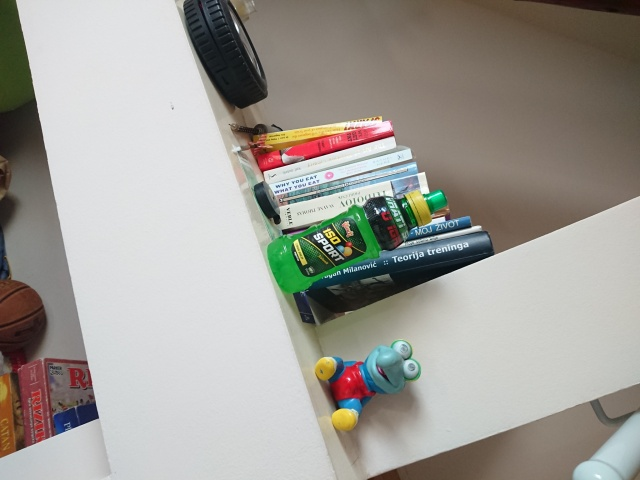Vindi Iso Sport Lemon-Grapefruit 500mL: (264, 187, 450, 296)
